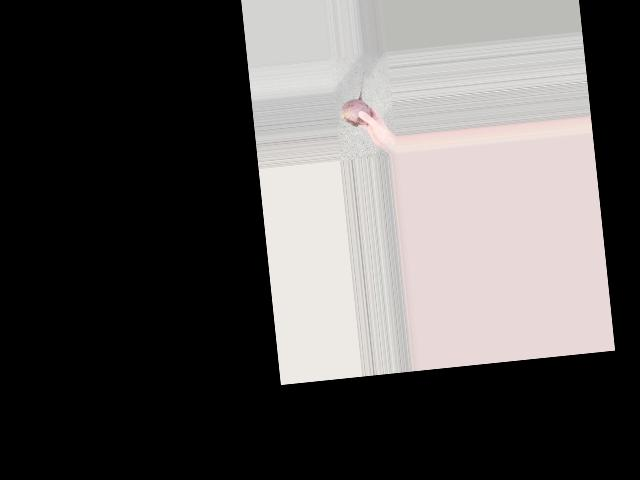beet: (336, 70, 371, 128)
